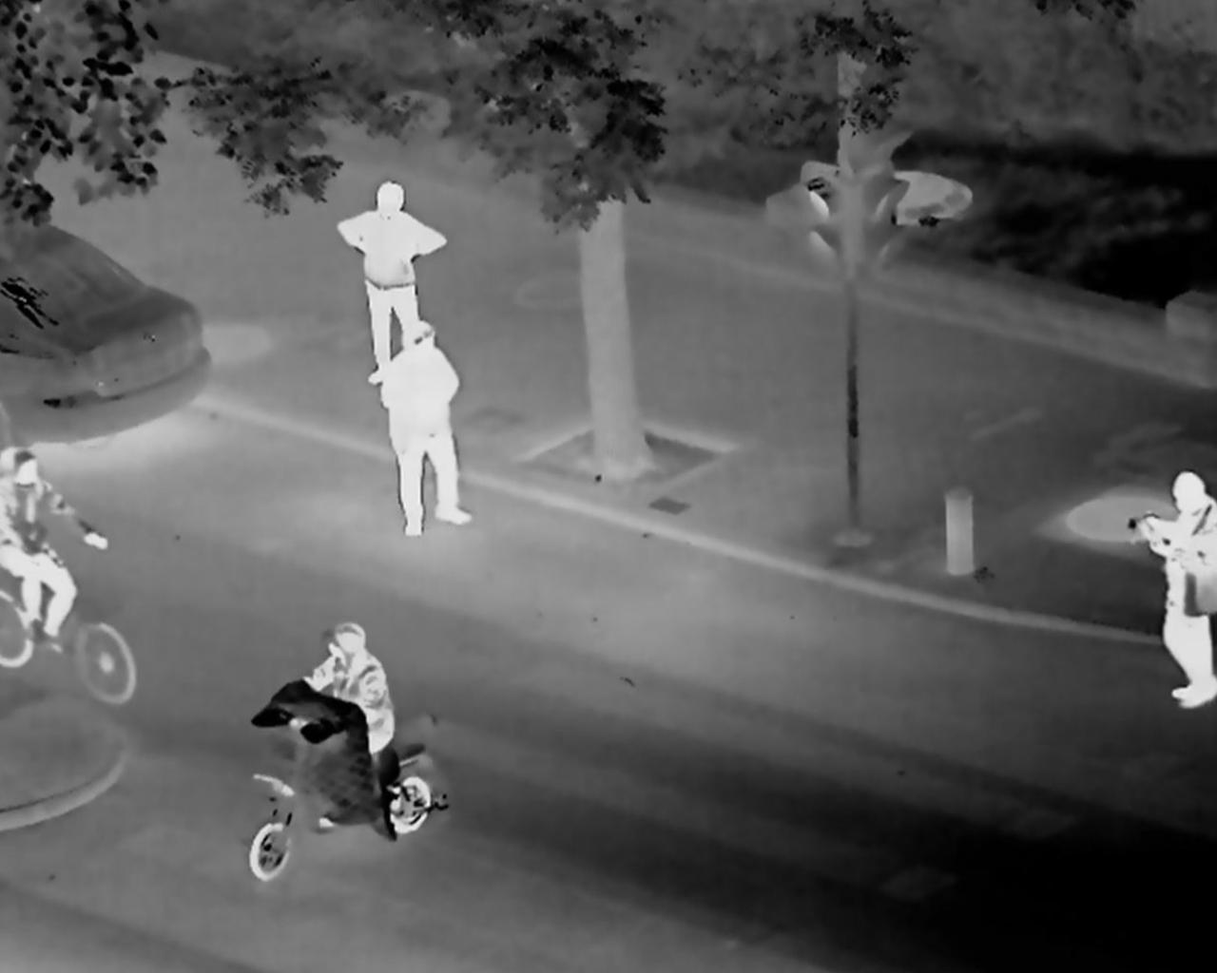person: (1129, 455, 1217, 717), (373, 334, 471, 541), (292, 616, 401, 756), (343, 169, 424, 333)
